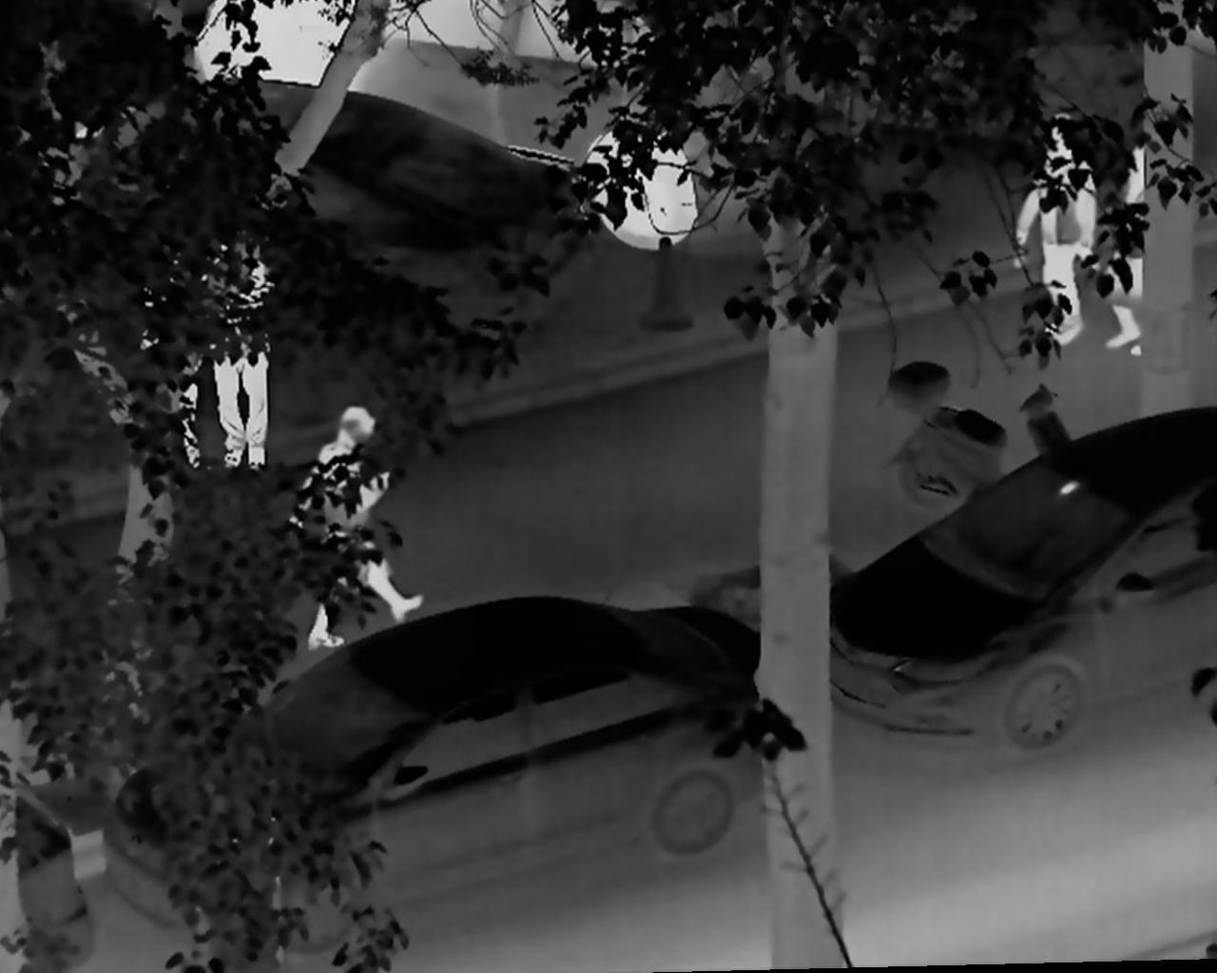person: (275, 400, 431, 649), (201, 211, 280, 474), (1011, 115, 1098, 348), (1099, 113, 1153, 358)
